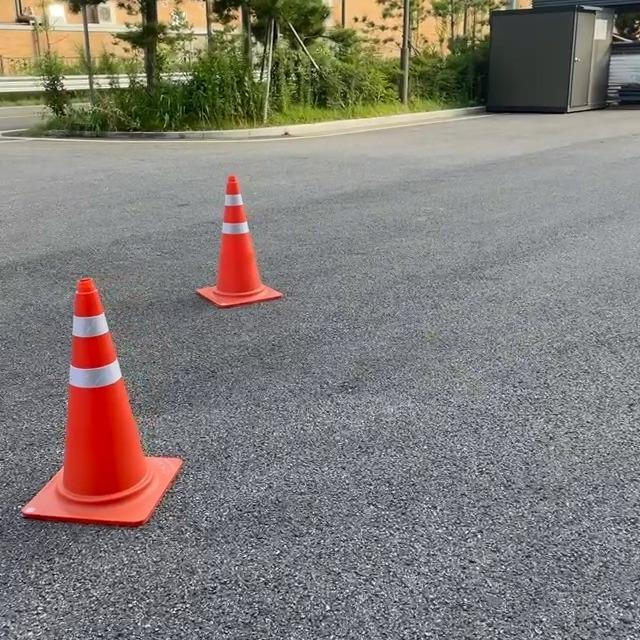fallen_object: (25, 267, 218, 537), (159, 153, 291, 306)
